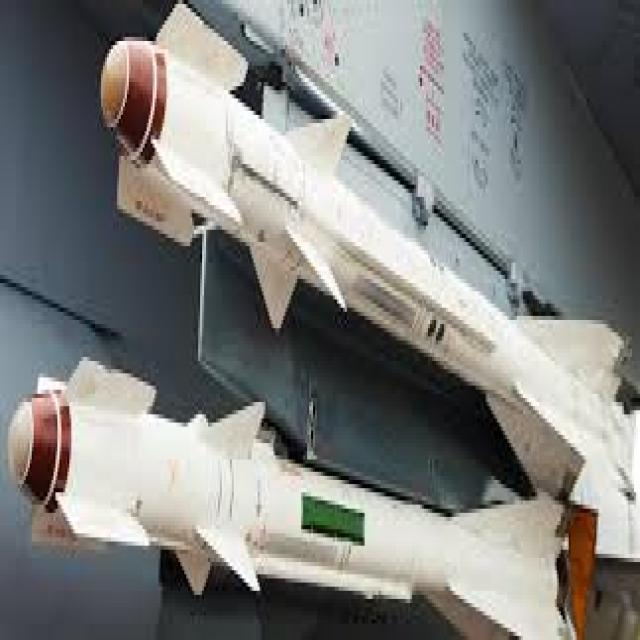missile: (101, 6, 640, 569), (14, 346, 565, 640)
